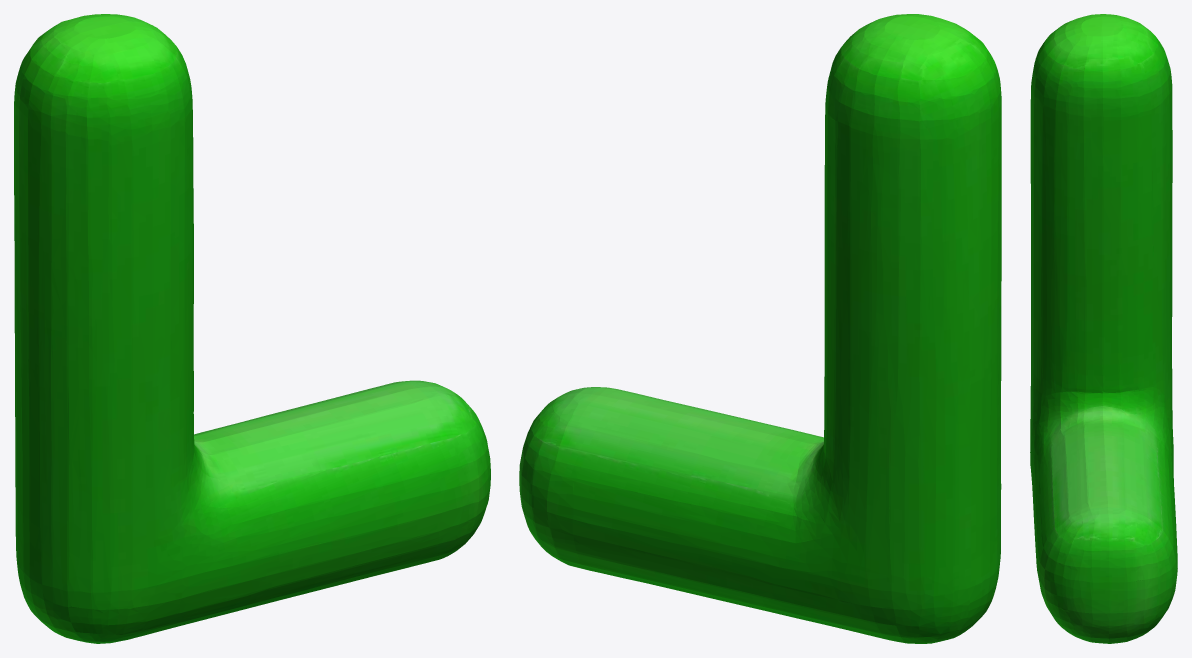
3 views of the same model, side by side, from view 1: azimuth 30°, elevation 25°; view 2: azimuth 150°, elevation 25°; view 3: azimuth 270°, elevation 25° (orthographic). The views are drawn at different scales.
Parts seen in each view (by area): view 1: geometry_0; view 2: geometry_0; view 3: geometry_0.
Boxes of the visible parts, x1,y1,x2,y2 form: geometry_0: [14, 14, 490, 643]; geometry_0: [519, 14, 1001, 643]; geometry_0: [1030, 14, 1177, 643].
Bounding box in the file's own units: 0.7791 × 0.9991 × 0.2734.
1 material, 1 textured.
